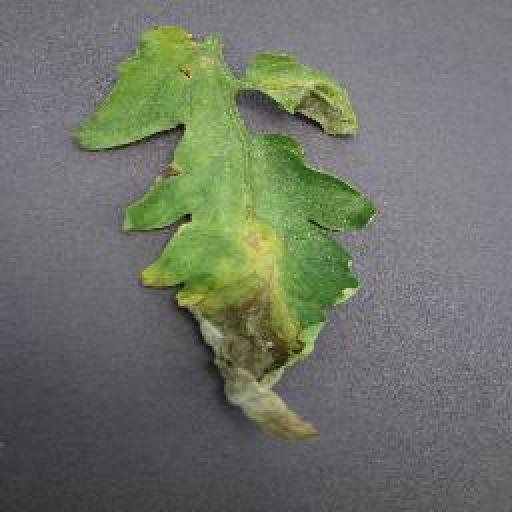disease_tomato: (78, 24, 378, 447)
